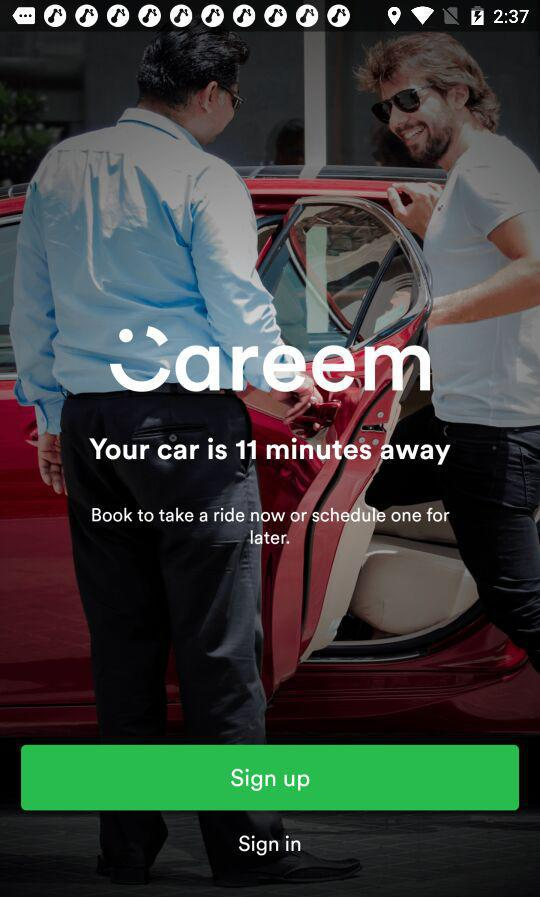BackgroundImage: (1, 33, 540, 897)
Image: (108, 324, 435, 395)
Text: (91, 506, 450, 547), (89, 436, 452, 467), (238, 833, 303, 857)
TextButton: (22, 745, 519, 811)
UpperTaskBar: (1, 1, 540, 33)
